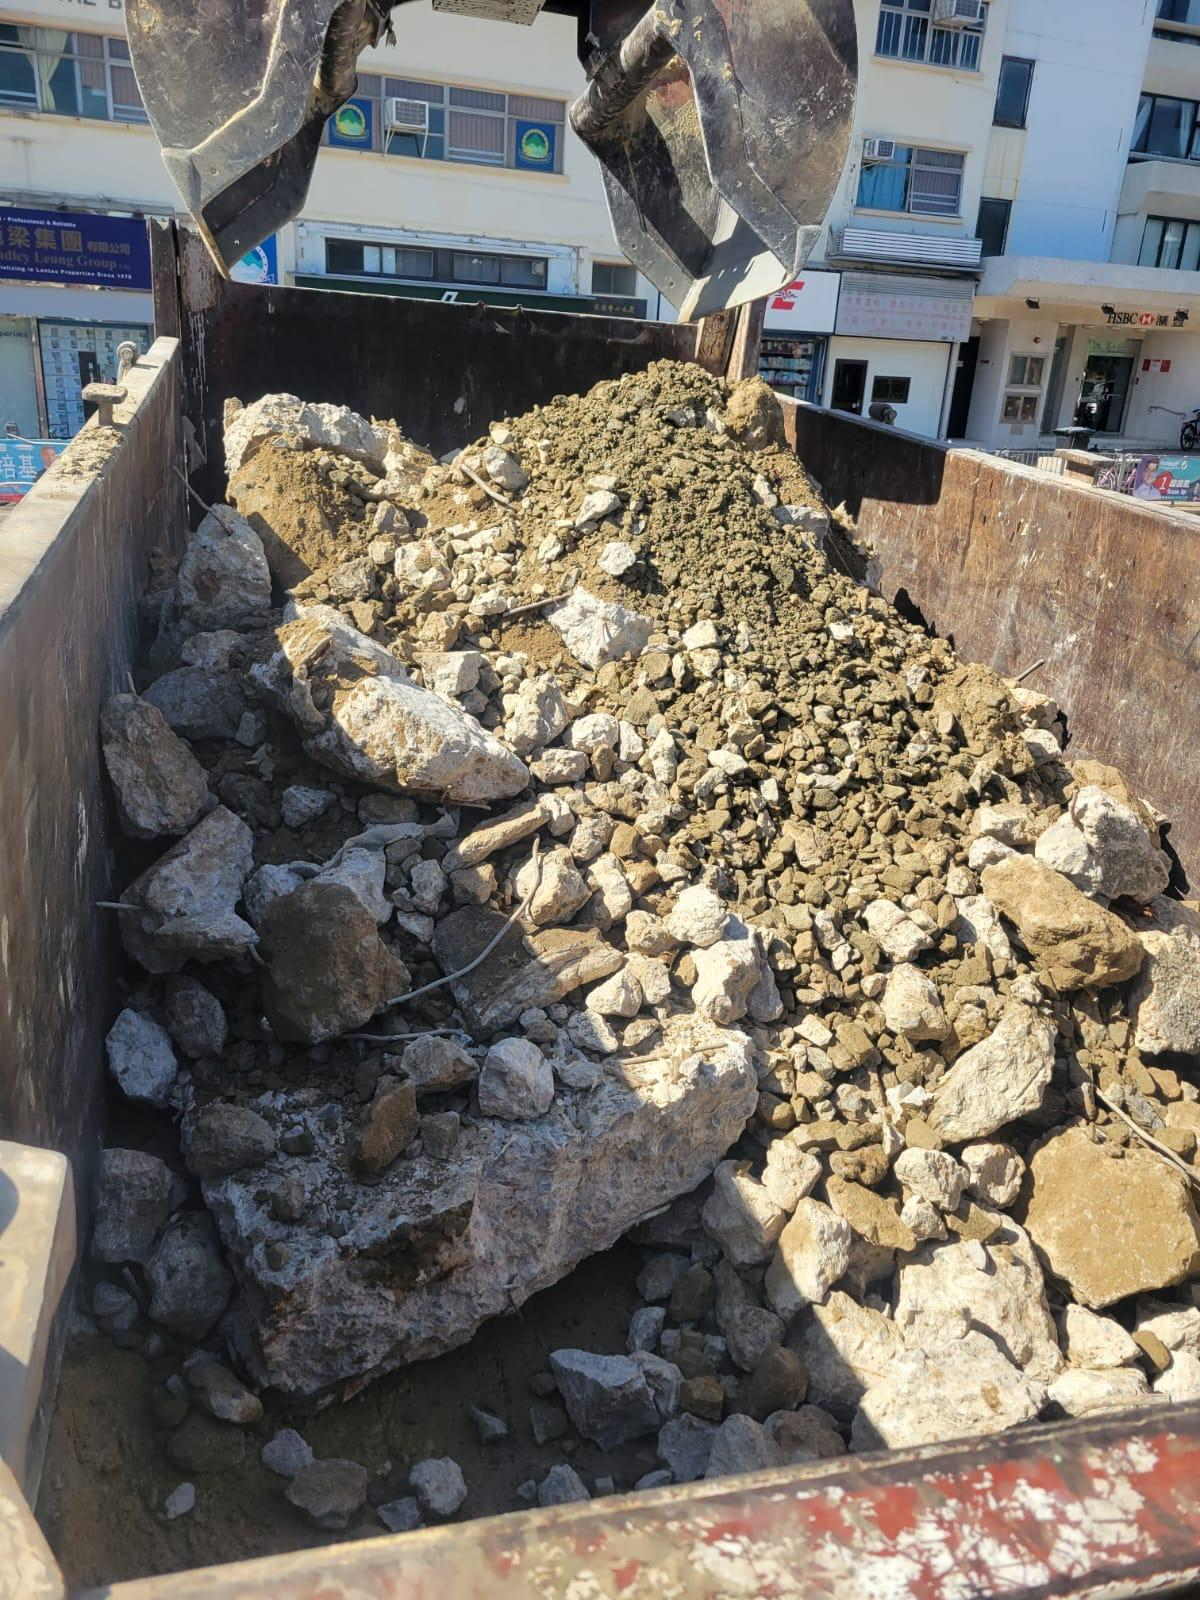dry: (92, 372, 1192, 1502)
